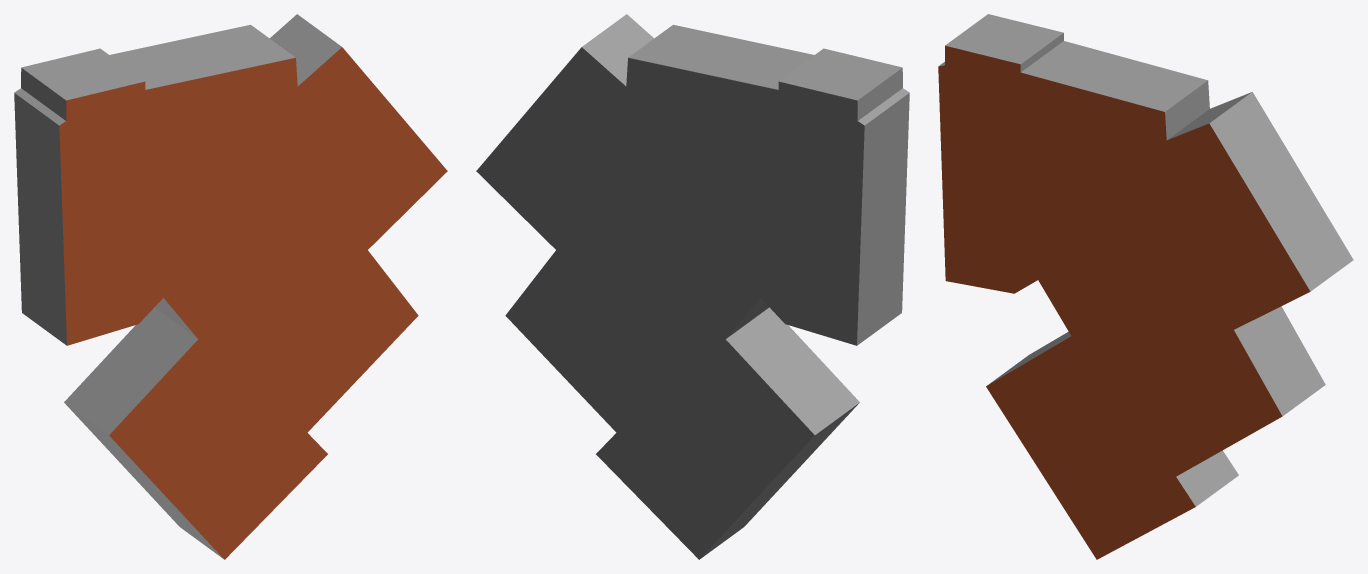
Rendered from construction_0771_assumed_A_Casa_h6m.obj.
The picture shows the model from 3 angles, left to right: view 1: azimuth 30°, elevation 25°; view 2: azimuth 150°, elevation 25°; view 3: azimuth 330°, elevation 25°; orthographic projection. The views are drawn at different scales.
Parts seen in each view (by area): view 1: construction_0771_assumed_A_Casa; view 2: construction_0771_assumed_A_Casa; view 3: construction_0771_assumed_A_Casa.
Part boxes in pixels (x1,y1,x2,y2): construction_0771_assumed_A_Casa: [14, 14, 447, 559]; construction_0771_assumed_A_Casa: [476, 14, 909, 559]; construction_0771_assumed_A_Casa: [938, 14, 1353, 559].
Size of the model in its own units: 29.83 by 36.55 by 6.
